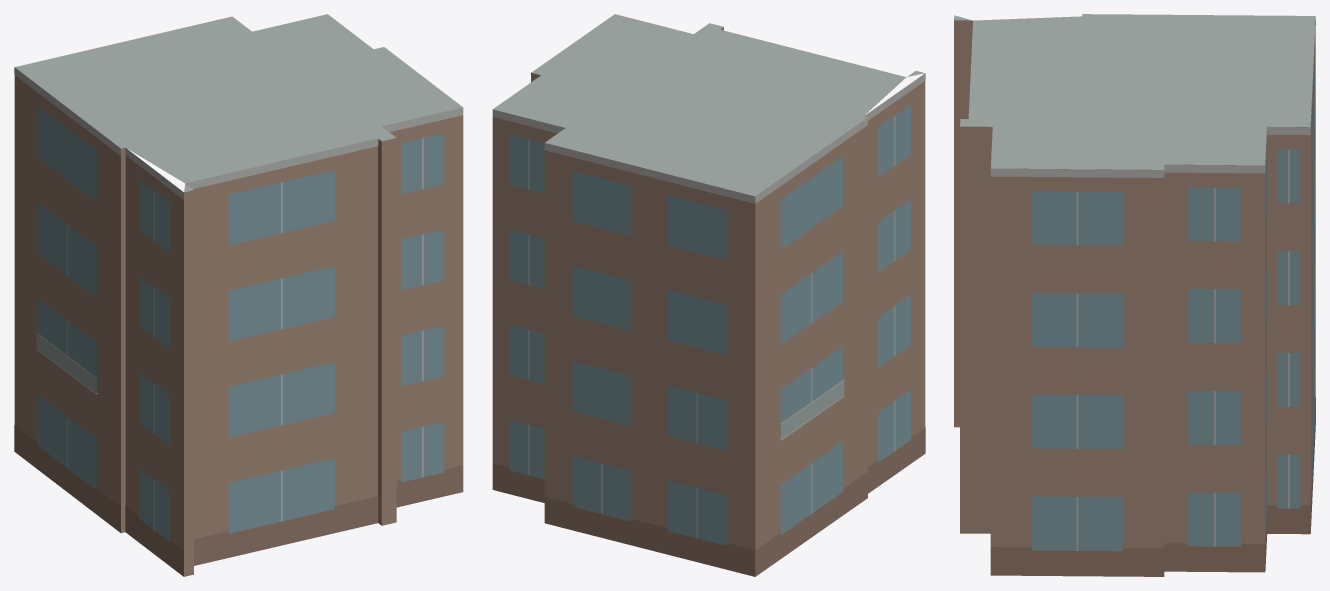
File: survey-upis-32993597.glb
3 renders of one model, left to right at view 1: azimuth 30°, elevation 25°; view 2: azimuth 150°, elevation 25°; view 3: azimuth 270°, elevation 25°, orthographic. The views are drawn at different scales.
Visible parts, largest first — view 1: survey-upis-32993597.tmp; view 2: survey-upis-32993597.tmp; view 3: survey-upis-32993597.tmp.
Part boxes in pixels (x1,y1,x2,y2): survey-upis-32993597.tmp: [14, 14, 463, 576]; survey-upis-32993597.tmp: [492, 14, 925, 576]; survey-upis-32993597.tmp: [954, 14, 1315, 576].
Bounding box in the file's own units: 10.16 × 12.35 × 9.95.
